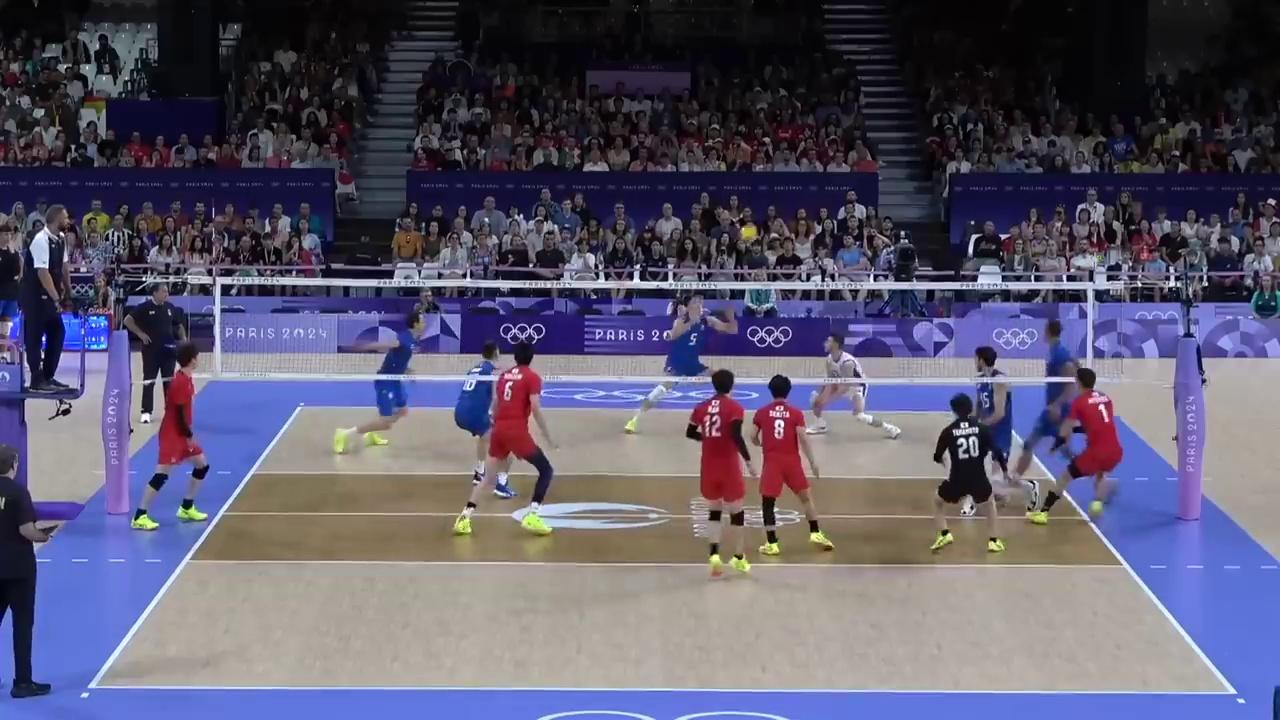ball: (742, 223, 758, 243)
